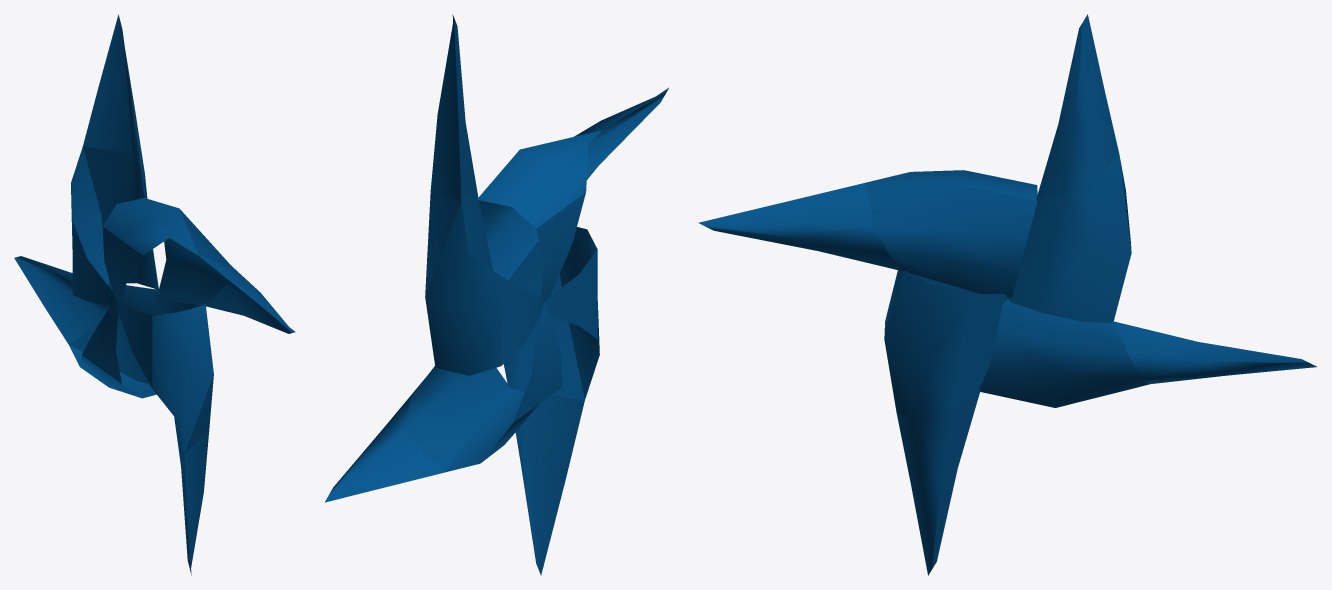
Rendered from Wind_Turbine_Wing.fbx.
3 views of the same model, side by side, from view 1: azimuth 30°, elevation 25°; view 2: azimuth 150°, elevation 25°; view 3: azimuth 270°, elevation 25° (orthographic). The views are drawn at different scales.
Visible parts, largest first — view 1: Wind_Turbine_Wing; view 2: Wind_Turbine_Wing; view 3: Wind_Turbine_Wing.
Boxes of the visible parts, box(x1,y1,x2,y2) form: Wind_Turbine_Wing: box(14, 14, 295, 575); Wind_Turbine_Wing: box(324, 14, 668, 575); Wind_Turbine_Wing: box(698, 14, 1316, 575).
Size of the model in its own units: 26.19 by 207 by 207.
